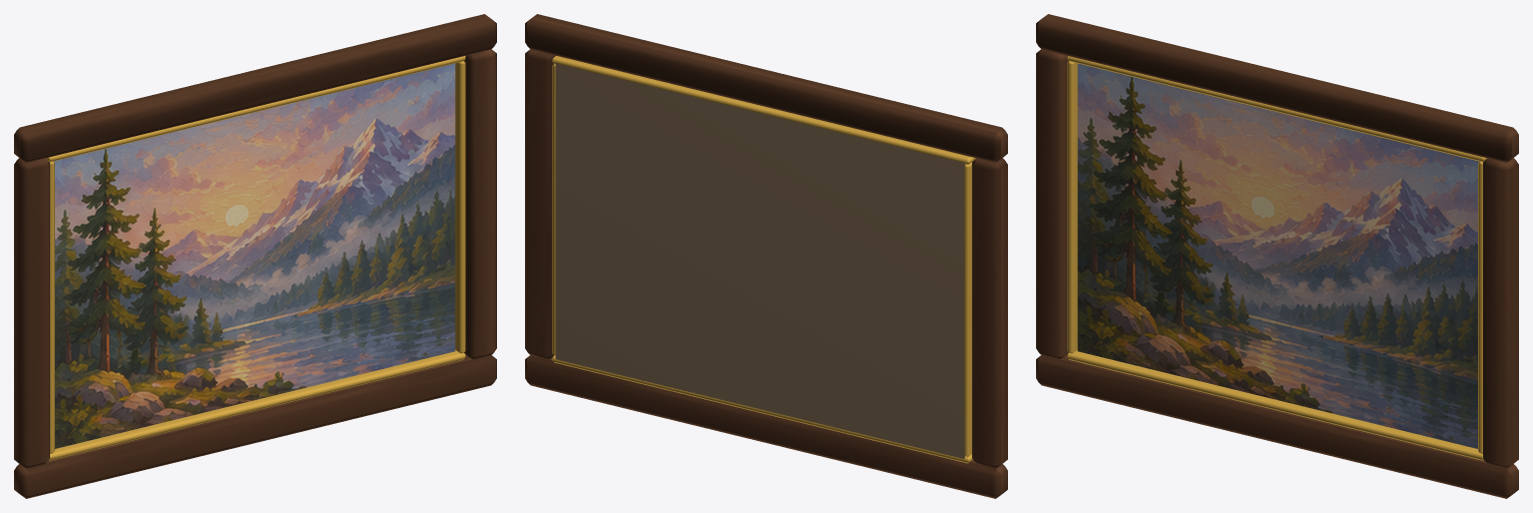
Rendered from painting_nature.glb.
3 views of the same model, side by side, from view 1: azimuth 30°, elevation 25°; view 2: azimuth 150°, elevation 25°; view 3: azimuth 330°, elevation 25° (orthographic).
Visible parts, largest first — view 1: model; view 2: model; view 3: model.
Boxes of the visible parts, <box> form: model: <box>14,14,496,498</box>; model: <box>525,14,1007,498</box>; model: <box>1036,14,1518,498</box>.
Size of the model in its own units: 1.06 by 0.78 by 0.05.
Materials: 4 (2 with a texture image).
